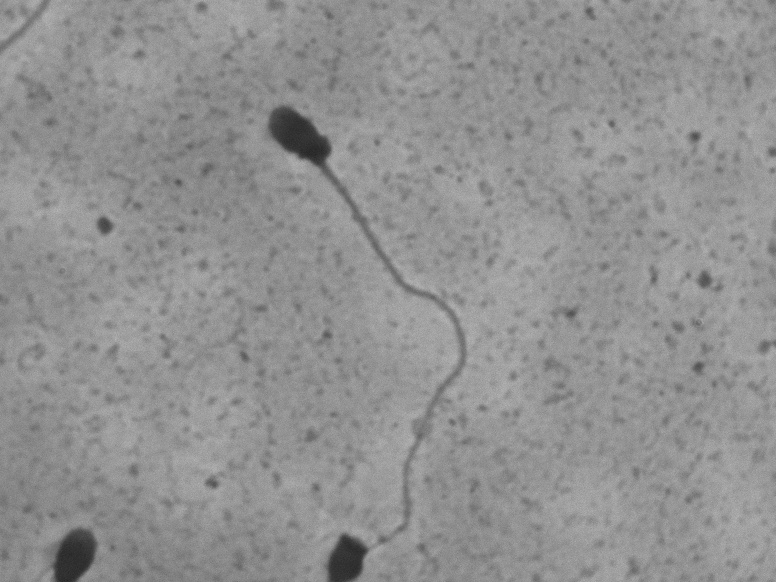Abnormal: (247, 84, 487, 560)
